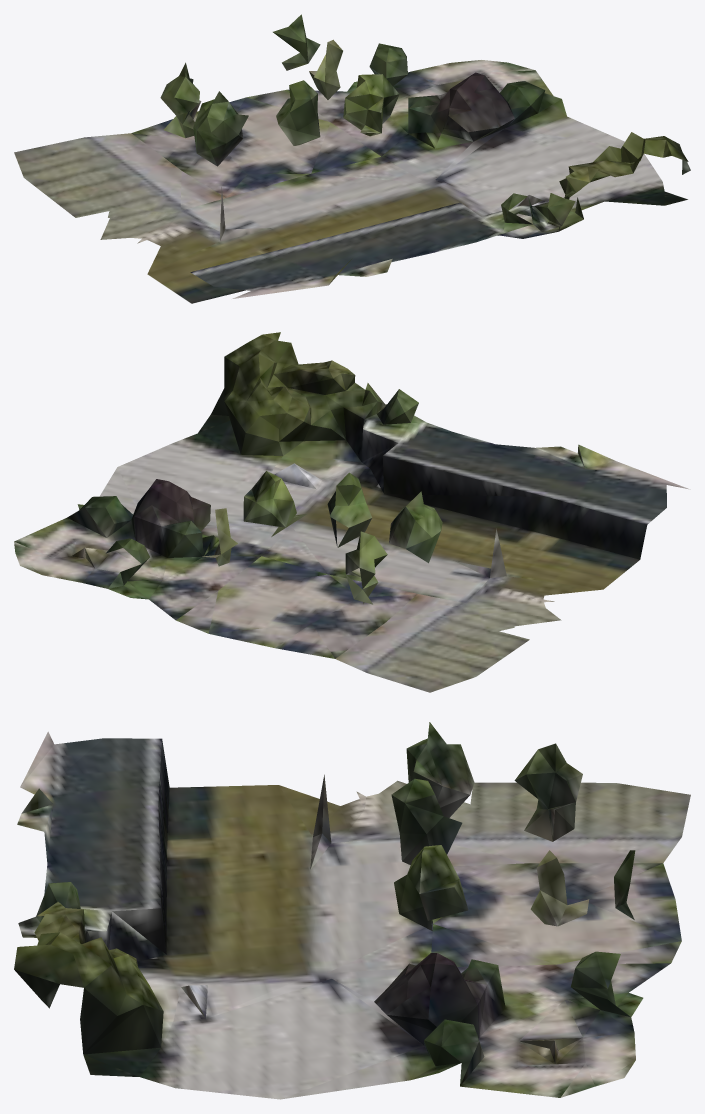
File: Tile_+004_+008_L17_00.glb
3 renders of one model, top to bottom at view 1: azimuth 30°, elevation 25°; view 2: azimuth 150°, elevation 25°; view 3: azimuth 270°, elevation 25°, orthographic. The views are drawn at different scales.
Size of the model in its own units: 60.43 by 12.88 by 53.59.
Materials: 1 (1 with a texture image).
